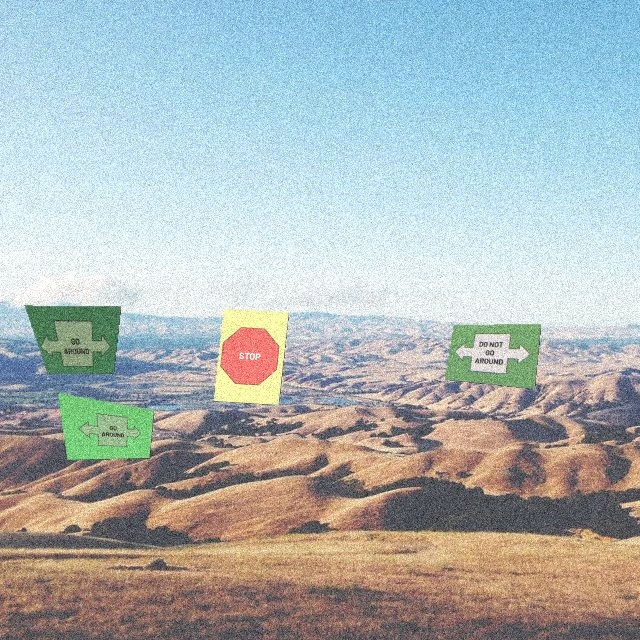DO_NOT_GO_AROUND: (452, 329, 533, 376)
GO_AROUND: (32, 320, 113, 366), (76, 409, 146, 448)
STOP: (218, 326, 281, 386)
